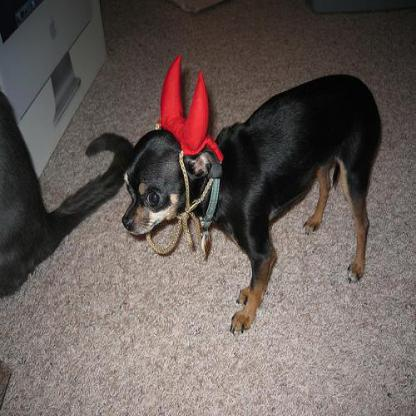dog: (117, 53, 383, 344)
